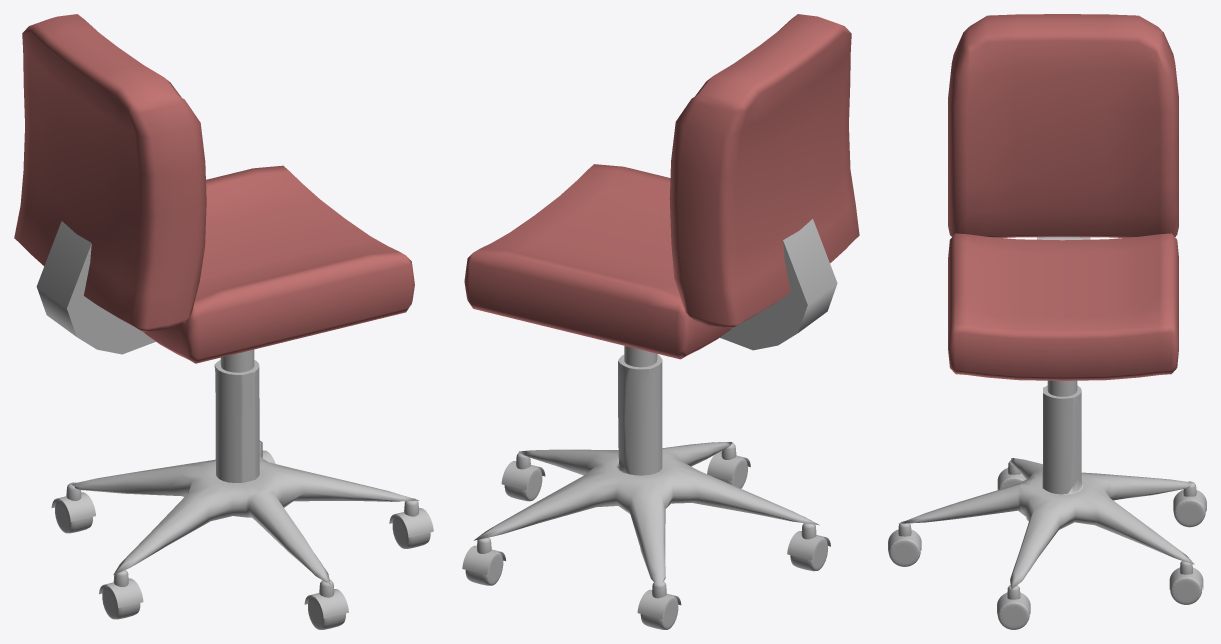
Rendered from Chair.fbx.
The picture shows the model from 3 angles, left to right: view 1: azimuth 30°, elevation 25°; view 2: azimuth 150°, elevation 25°; view 3: azimuth 270°, elevation 25°; orthographic projection. The views are drawn at different scales.
Parts seen in each view (by area): view 1: pasted__pCube1, pCube1, pCylinder1, pPipe1, pasted__pasted__pasted__pasted__pasted__pCylinder6, pasted__pasted__pasted__pasted__pCylinder13, pasted__pasted__pCylinder24, pasted__pasted__pasted__pCylinder18, pasted__pasted__pCylinder10, pasted__pasted__pasted__pasted__pCylinder7, pasted__pasted__pasted__pasted__pasted__pCylinder8, pasted__pCylinder8; view 2: pasted__pCube1, pCube1, pCylinder1, pPipe1, pasted__pasted__pasted__pCylinder18, pasted__pasted__pasted__pCylinder17, pasted__pasted__pasted__pasted__pCylinder13, pasted__pasted__pCylinder24, pasted__pasted__pasted__pasted__pasted__pCylinder6, pasted__pasted__pasted__pasted__pasted__pCylinder8, pasted__pasted__pCylinder6, pasted__pCylinder8 (+1 smaller); view 3: pasted__pCube1, pCube1, pCylinder1, pasted__pCylinder8, pasted__pasted__pasted__pasted__pCylinder7, pasted__pasted__pCylinder6, pasted__pasted__pasted__pasted__pasted__pCylinder8.
Part boxes in pixels (x1,y1,x2,y2): pasted__pCube1: (14,14,206,332); pCube1: (144,165,414,363); pCylinder1: (67,349,419,584); pPipe1: (36,221,155,354); pasted__pasted__pasted__pasted__pasted__pCylinder6: (304,589,348,618); pasted__pasted__pasted__pasted__pCylinder13: (389,508,433,537); pasted__pasted__pCylinder24: (51,492,95,521); pasted__pasted__pasted__pCylinder18: (99,578,143,608); pasted__pasted__pCylinder10: (102,585,140,619); pasted__pasted__pasted__pasted__pCylinder7: (308,596,345,629); pasted__pasted__pasted__pasted__pasted__pCylinder8: (392,515,430,548); pasted__pCylinder8: (55,499,92,533); pasted__pCube1: (669,14,859,328); pCube1: (464,164,731,359); pCylinder1: (474,346,819,586); pPipe1: (720,219,837,350); pasted__pasted__pasted__pCylinder18: (787,531,830,560); pasted__pasted__pasted__pCylinder17: (462,545,505,574); pasted__pasted__pasted__pasted__pCylinder13: (501,461,545,490); pasted__pasted__pCylinder24: (637,589,681,619); pasted__pasted__pasted__pasted__pasted__pCylinder6: (707,451,750,480); pasted__pasted__pasted__pasted__pasted__pCylinder8: (504,467,542,501); pasted__pasted__pCylinder6: (465,552,503,585); pasted__pCylinder8: (640,596,678,629); pasted__pCube1: (948,14,1178,237); pCube1: (948,233,1178,380); pCylinder1: (898,380,1194,589); pasted__pCylinder8: (1173,499,1205,527); pasted__pasted__pasted__pasted__pCylinder7: (888,539,920,566); pasted__pasted__pCylinder6: (1170,577,1202,604); pasted__pasted__pasted__pasted__pasted__pCylinder8: (997,602,1029,629).
Size of the model in its own units: 3.79 by 5.75 by 3.45.
